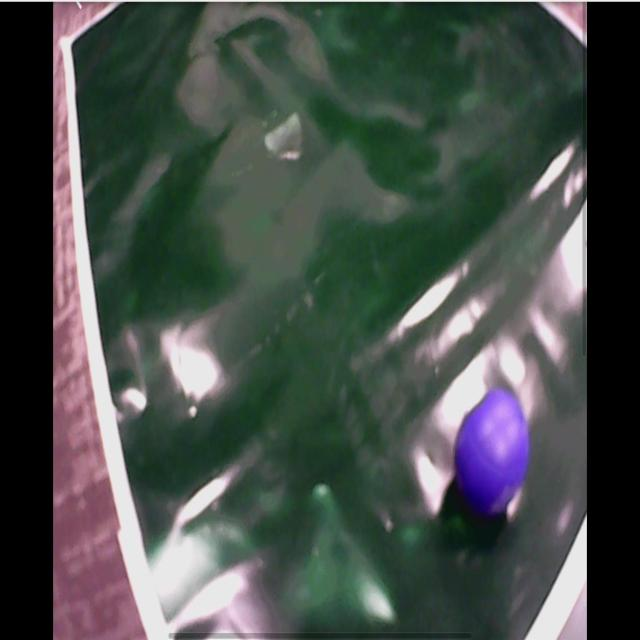ball: (456, 393, 530, 510)
